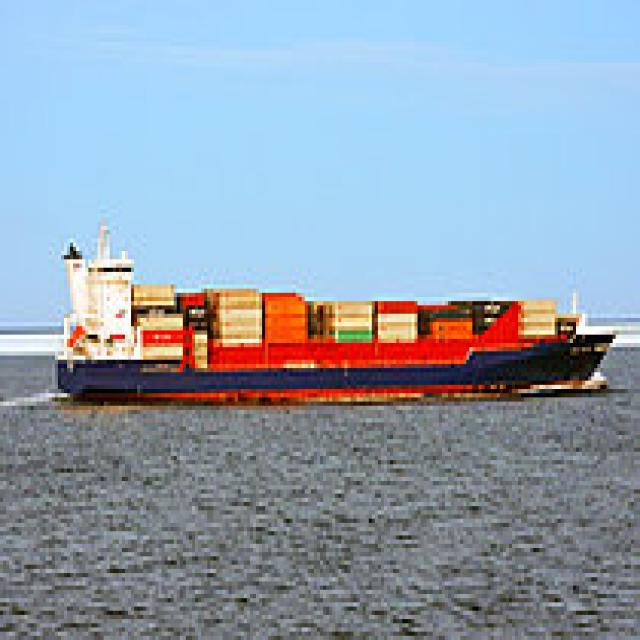Ship: (50, 215, 626, 424)
